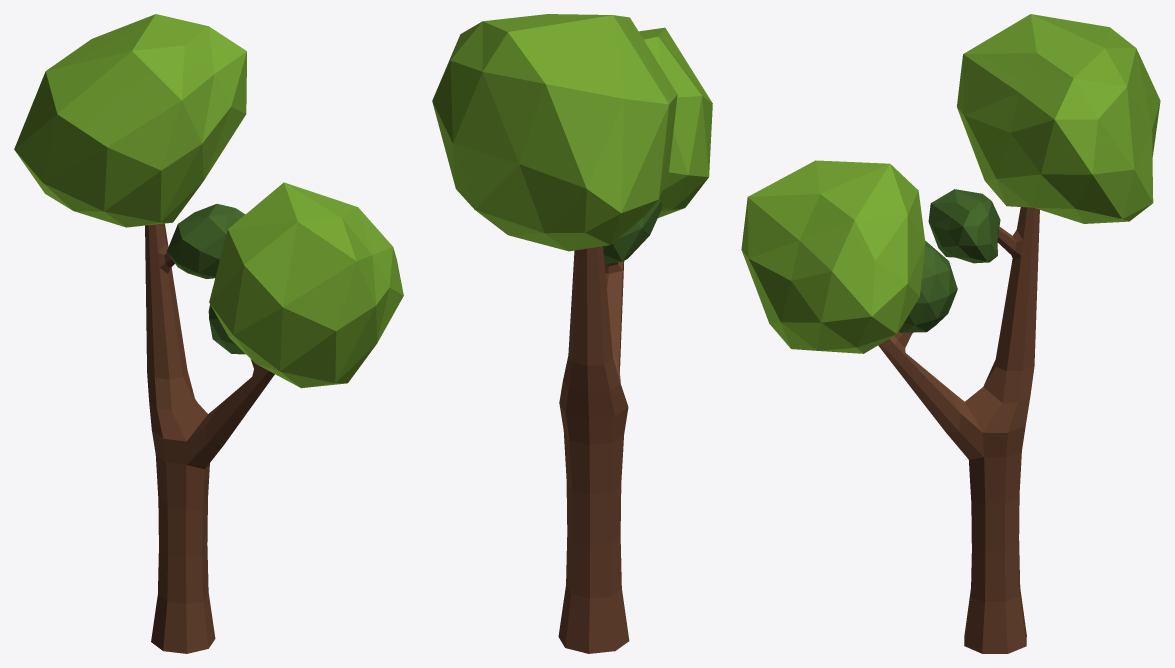
3 renders of one model, left to right at view 1: azimuth 30°, elevation 25°; view 2: azimuth 150°, elevation 25°; view 3: azimuth 270°, elevation 25°, orthographic. The views are drawn at different scales.
Visible parts, largest first — view 1: t7-green; view 2: t7-green; view 3: t7-green.
Part boxes in pixels (x1,y1,x2,y2): t7-green: [14, 14, 403, 653]; t7-green: [432, 14, 712, 653]; t7-green: [741, 14, 1160, 653].
Size of the model in its own units: 454 by 1002 by 625.
